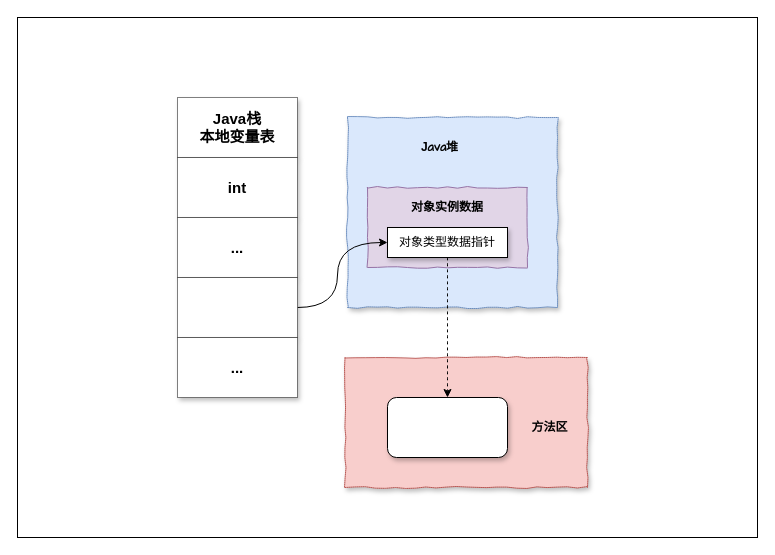
Some shapes in this 775 by 555 pixel diagram are drawn without their labels. The shapes that lost their labels are listed below. From the top down, each one's centre as x and y in pixels, then its label:
At point 238,308: "reference".
At point 448,428: "对象类型数据".
